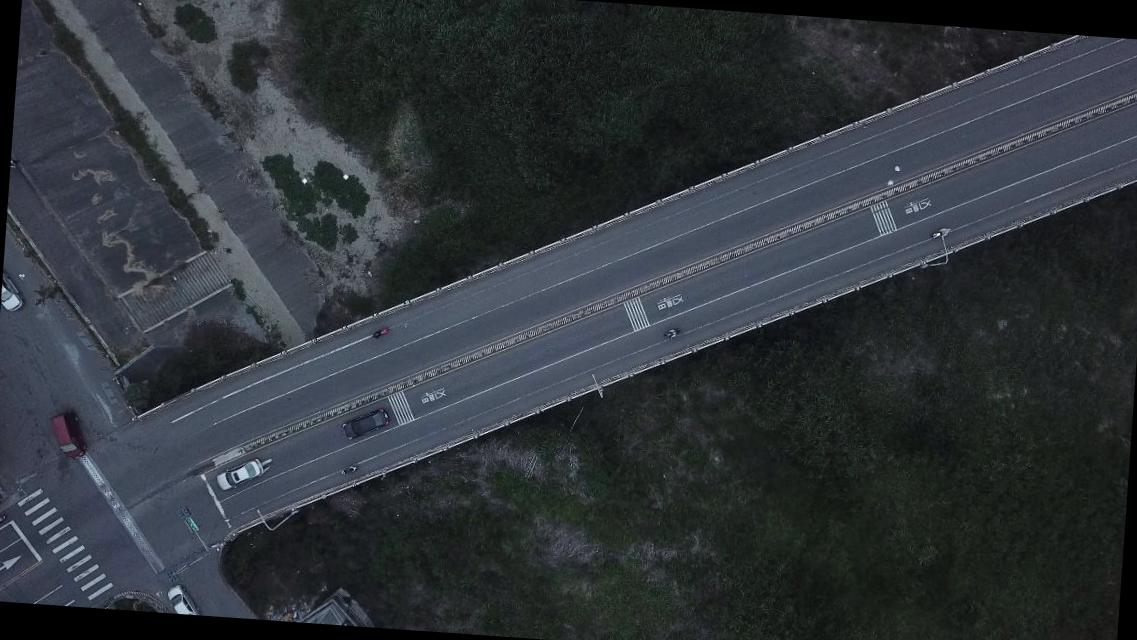vehicle: (48, 408, 86, 462), (216, 453, 264, 494), (341, 406, 390, 442), (162, 584, 202, 614), (0, 272, 24, 314)
